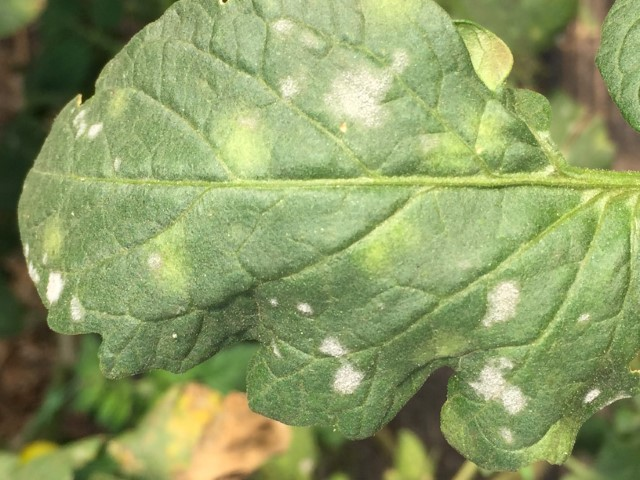oidio: (325, 48, 408, 129), (467, 354, 530, 416), (482, 279, 521, 328), (333, 361, 364, 397), (317, 334, 347, 357), (23, 241, 38, 287), (70, 107, 86, 140), (69, 294, 85, 322), (278, 75, 298, 96), (271, 18, 293, 35), (268, 337, 282, 359), (86, 122, 102, 141), (499, 426, 514, 446), (581, 388, 599, 404), (297, 300, 313, 317), (147, 251, 159, 267), (267, 296, 280, 308), (111, 156, 121, 171), (575, 313, 591, 322), (40, 252, 48, 264)
